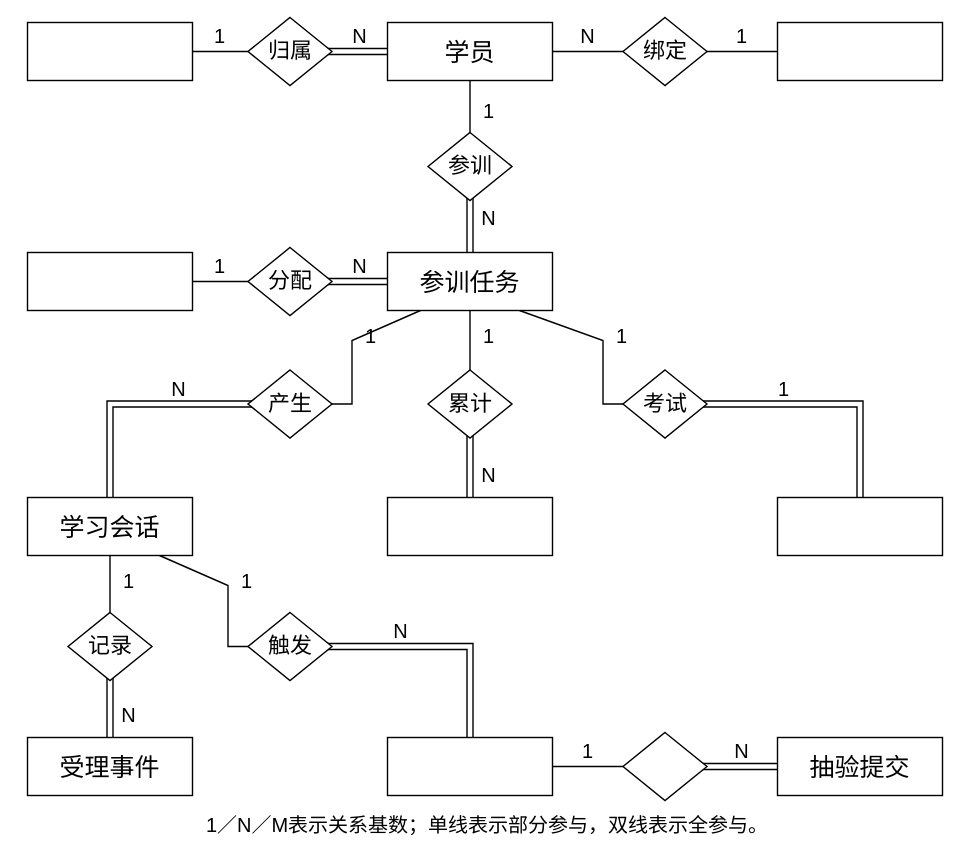
This 974x858 diagram has some shape labels left out. The shapes that lost their labels are listed below. From the top down, each one's centre as x and y in pixels, then its label:
At [109,51]: "企业".
At [859,51]: "车辆".
At [109,281]: "培训计划".
At [469,526]: "课程进度".
At [859,526]: "考试记录".
At [469,766]: "抽验任务".
At [664,766]: "提交".
